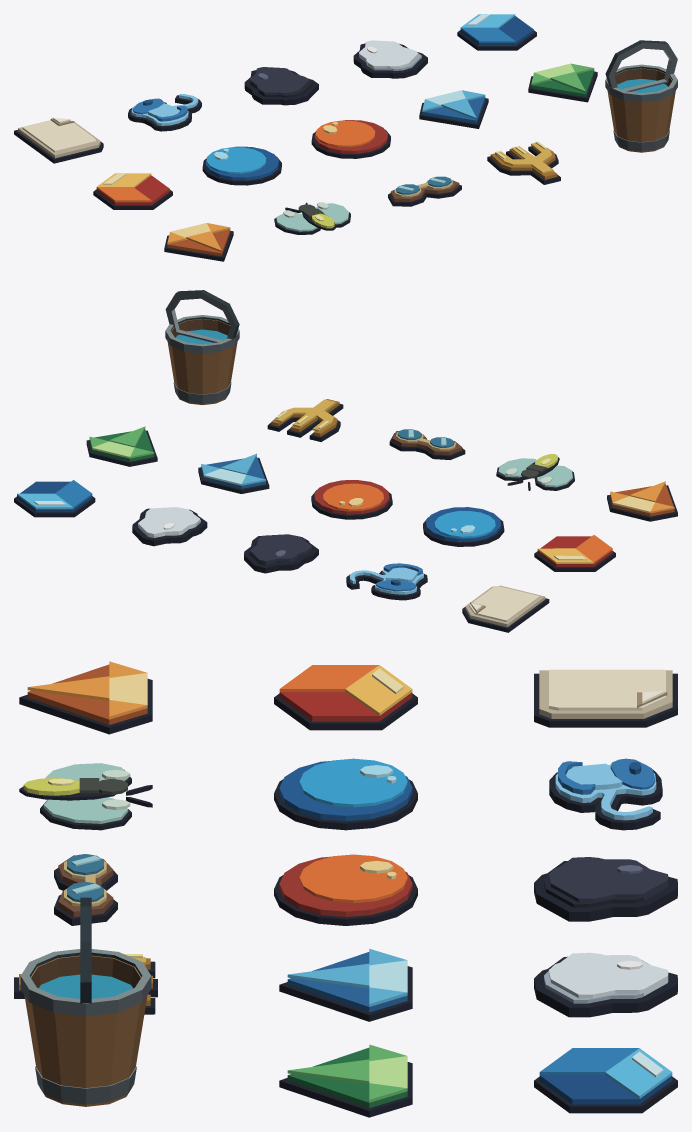
Rendered from missing-items.fbx.
3 views of the same model, one above another, from view 1: azimuth 30°, elevation 25°; view 2: azimuth 150°, elevation 25°; view 3: azimuth 270°, elevation 25° (orthographic). The views are drawn at different scales.
Visible parts, largest first — view 1: water_bucket, paper, dragon_orb, lava_orb, lava_cube, blue_cube, black_wolf_fur, white_wolf_fur, blue_gem, green_gem, orange_gem, pitchfork_part (+3 smaller); view 2: water_bucket, dragon_orb, lava_orb, paper, blue_cube, lava_cube, white_wolf_fur, black_wolf_fur, blue_thread, green_gem, blue_gem, orange_gem (+3 smaller); view 3: water_bucket, dragon_orb, lava_orb, paper, blue_cube, lava_cube, white_wolf_fur, black_wolf_fur, orange_gem, blue_gem, green_gem, blue_thread (+3 smaller).
Part boxes in pixels (bbox=[...]): water_bucket: bbox=[605, 40, 677, 152]; paper: bbox=[14, 117, 103, 163]; dragon_orb: bbox=[202, 146, 281, 185]; lava_orb: bbox=[311, 120, 390, 158]; lava_cube: bbox=[93, 173, 172, 209]; blue_cube: bbox=[457, 14, 536, 50]; black_wolf_fur: bbox=[244, 67, 318, 105]; white_wolf_fur: bbox=[353, 40, 427, 78]; blue_gem: bbox=[419, 90, 488, 128]; green_gem: bbox=[528, 63, 597, 102]; orange_gem: bbox=[164, 223, 233, 261]; pitchfork_part: bbox=[487, 141, 560, 184]; water_bucket: bbox=[165, 290, 239, 404]; dragon_orb: bbox=[423, 507, 504, 546]; lava_orb: bbox=[311, 480, 392, 519]; paper: bbox=[462, 585, 549, 632]; blue_cube: bbox=[14, 480, 95, 517]; lava_cube: bbox=[534, 535, 615, 571]; white_wolf_fur: bbox=[132, 507, 207, 546]; black_wolf_fur: bbox=[244, 534, 318, 573]; blue_thread: bbox=[346, 563, 427, 600]; green_gem: bbox=[86, 426, 157, 466]; blue_gem: bbox=[198, 453, 269, 493]; orange_gem: bbox=[607, 481, 677, 521]; water_bucket: bbox=[20, 897, 151, 1106]; dragon_orb: bbox=[274, 758, 417, 830]; lava_orb: bbox=[274, 854, 417, 925]; paper: bbox=[534, 669, 677, 727]; blue_cube: bbox=[534, 1048, 677, 1113]; lava_cube: bbox=[274, 665, 417, 730]; white_wolf_fur: bbox=[534, 952, 677, 1017]; black_wolf_fur: bbox=[534, 857, 677, 921]; orange_gem: bbox=[19, 661, 152, 734]; blue_gem: bbox=[279, 948, 412, 1021]; green_gem: bbox=[279, 1044, 412, 1117]; blue_thread: bbox=[549, 758, 662, 830].
Bounding box in the file's own units: 7.88 × 1.5 × 4.98.
1 material, 1 textured.
